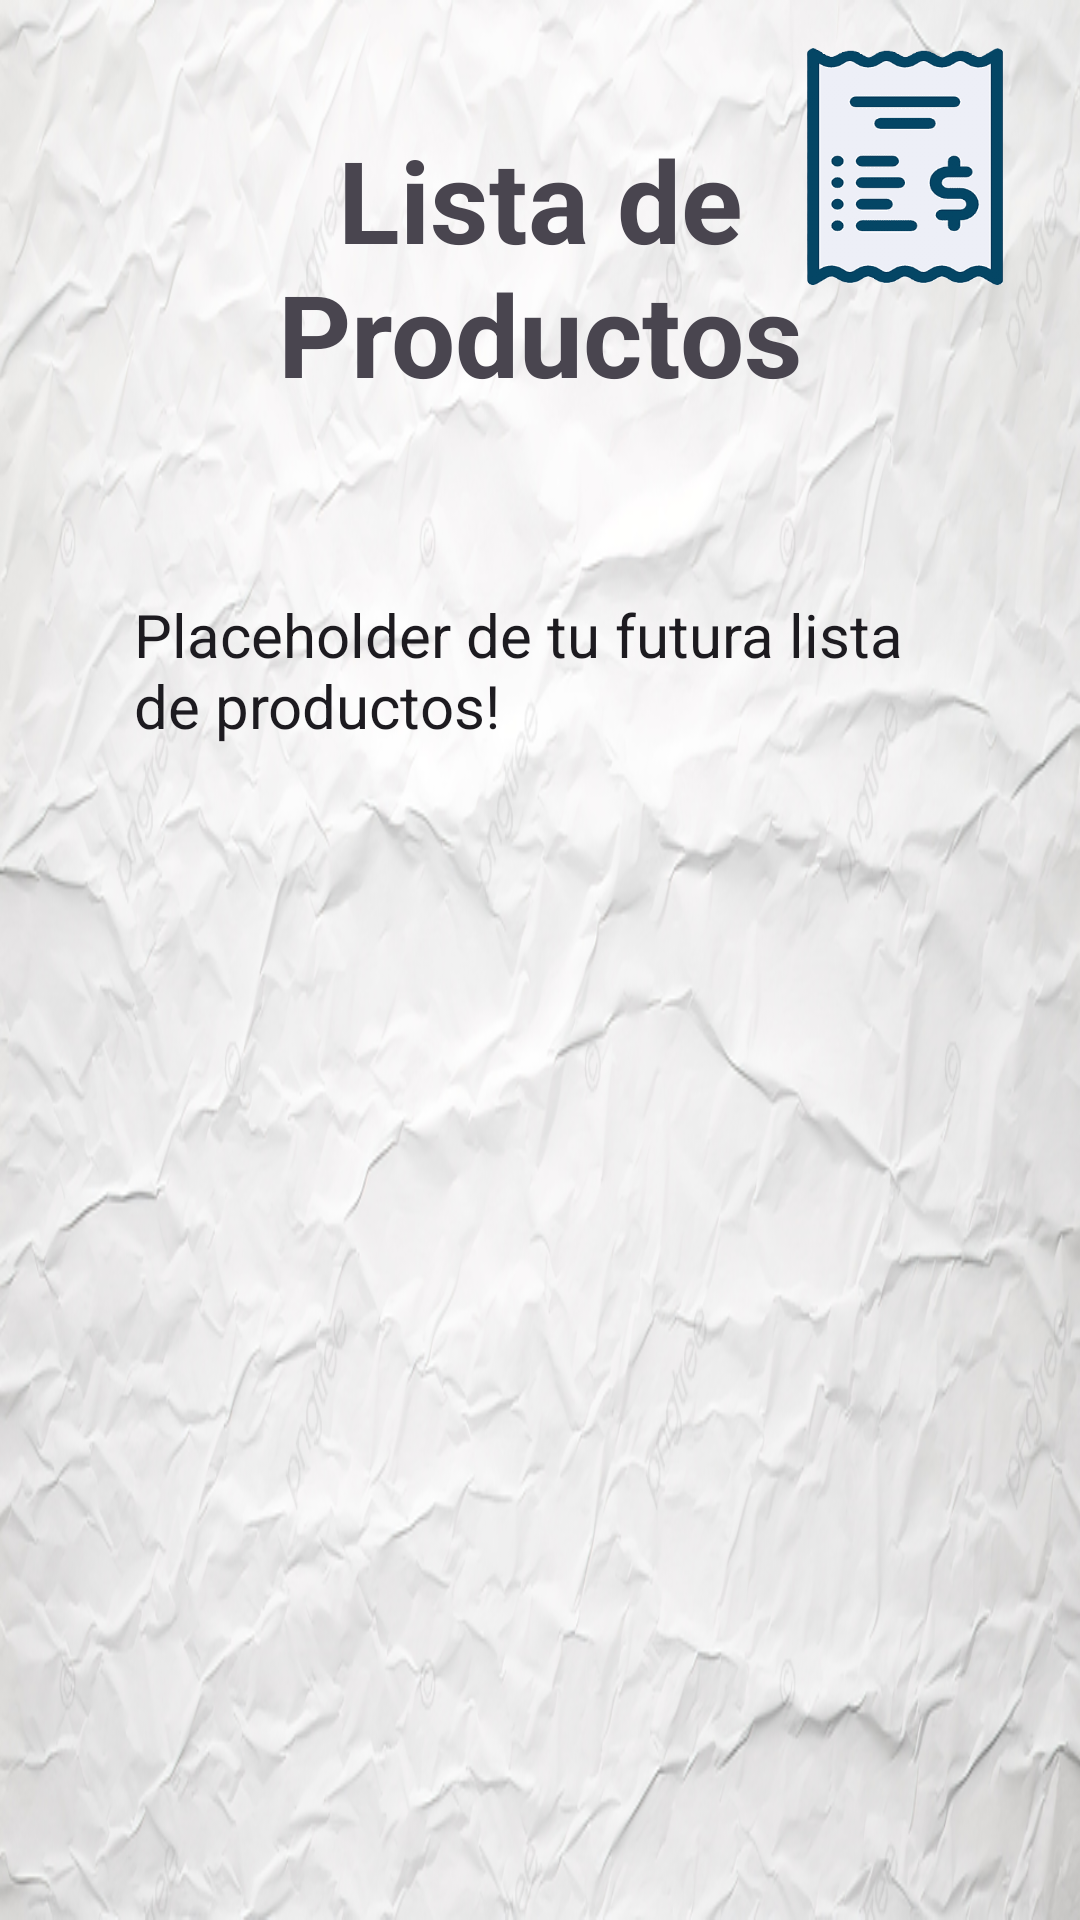

Icons on this 1080x1920 Android screen, each with its box as (x1, y1, x2, y2):
facturaicon: (770, 48, 1040, 285)
